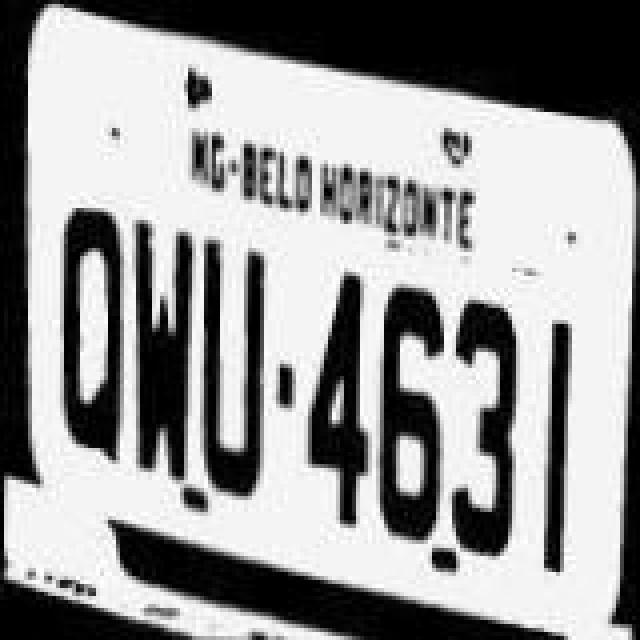1: (530, 298, 594, 590)
3: (444, 294, 528, 562)
4: (300, 266, 376, 530)
6: (370, 276, 450, 548)
Q: (56, 196, 128, 476)
U: (200, 236, 272, 500)
W: (126, 200, 194, 484)
